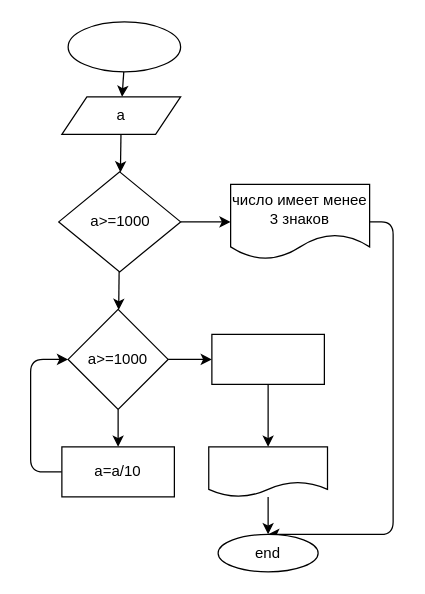
Some shapes in this 425 by 594 pixel diagram are drawn without their labels. The centre of each missing label's shape, as x and y in pixels:
"result" goes at pixel 268 471.
"result = a%10" goes at pixel 267 358.
"start" goes at pixel 124 46.
